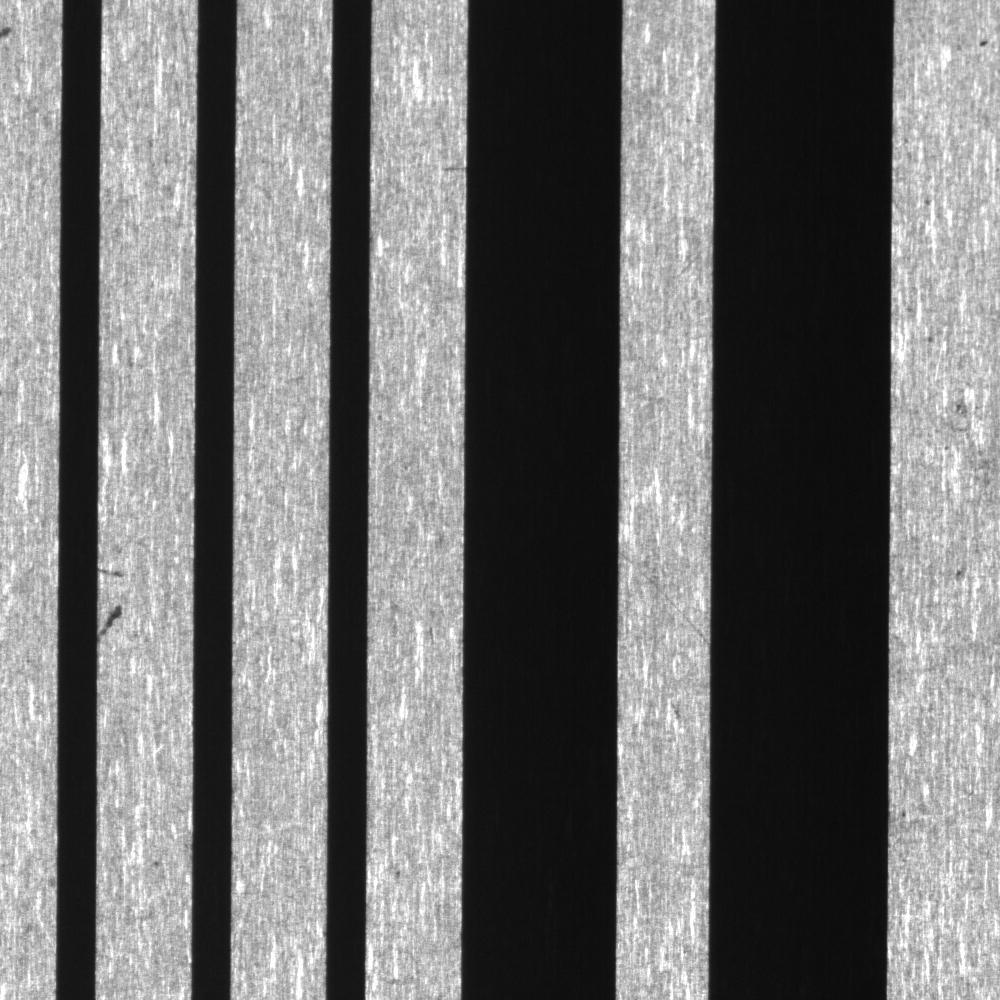Discolor: (938, 379, 976, 436)
Etching: (96, 596, 127, 645), (99, 561, 131, 581), (972, 30, 996, 55)
Pinhole: (914, 186, 940, 219), (947, 557, 975, 586), (143, 847, 171, 874), (919, 324, 945, 352)
Scar: (614, 542, 709, 643)
